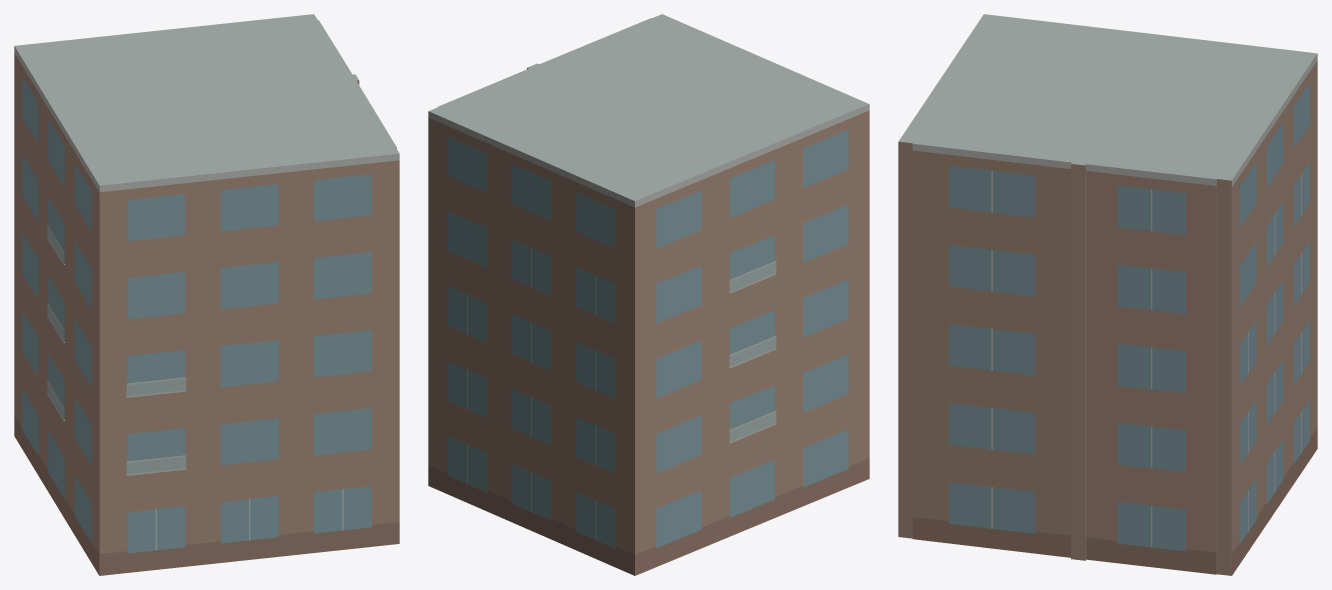
Rendered from survey-upis-32847444.glb.
3 renders of one model, left to right at view 1: azimuth 30°, elevation 25°; view 2: azimuth 150°, elevation 25°; view 3: azimuth 270°, elevation 25°, orthographic. The views are drawn at different scales.
Visible parts, largest first — view 1: survey-upis-32847444.tmp; view 2: survey-upis-32847444.tmp; view 3: survey-upis-32847444.tmp.
Part boxes in pixels (x1,y1,x2,y2): survey-upis-32847444.tmp: (14,14,399,575); survey-upis-32847444.tmp: (428,14,869,575); survey-upis-32847444.tmp: (898,14,1317,575).
Bounding box in the file's own units: 13.02 × 14.4 × 13.85.
